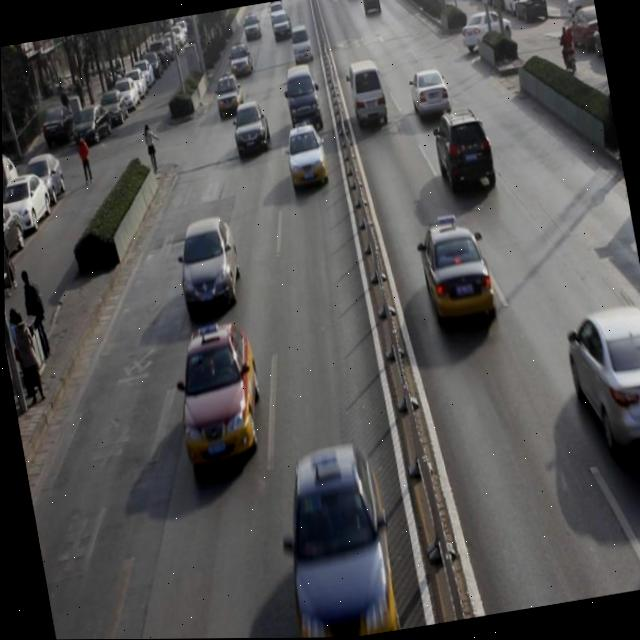car: (270, 445, 402, 638), (165, 320, 272, 474), (561, 302, 640, 469), (413, 215, 497, 331), (170, 216, 246, 317), (431, 107, 500, 203), (283, 124, 331, 193), (229, 99, 273, 159), (408, 64, 453, 120), (212, 71, 247, 118), (226, 41, 256, 78), (241, 12, 264, 44), (271, 11, 292, 41)
truck: (280, 62, 326, 137), (344, 59, 390, 133), (286, 24, 315, 68)
